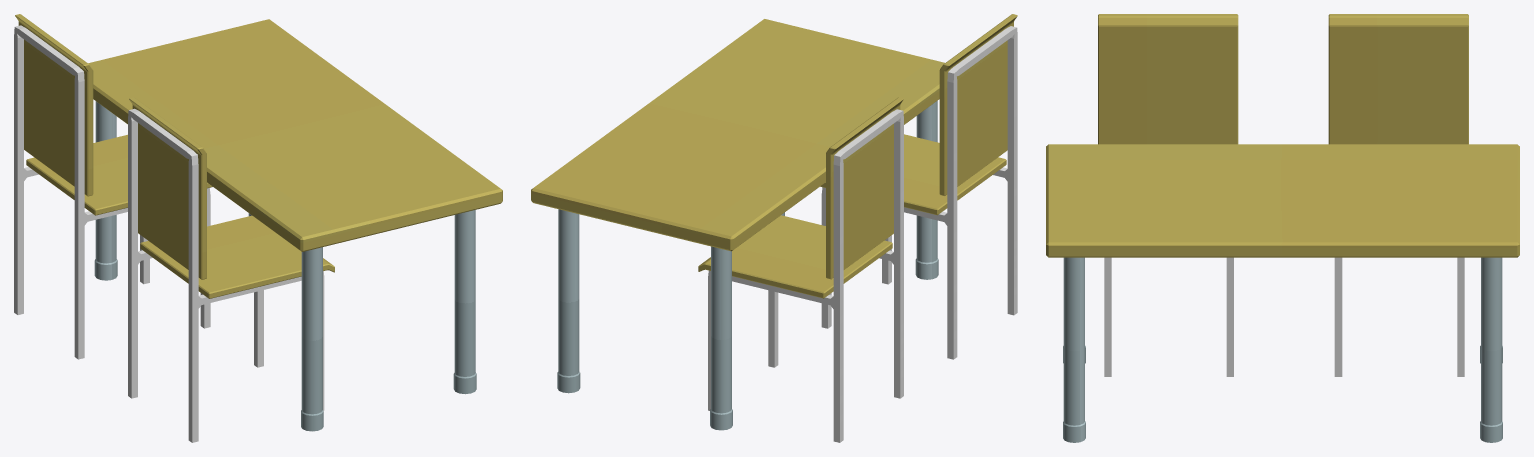
File: room_table_chairs.fbx
The picture shows the model from 3 angles, left to right: view 1: azimuth 30°, elevation 25°; view 2: azimuth 150°, elevation 25°; view 3: azimuth 270°, elevation 25°; orthographic projection.
Parts seen in each view (by area): view 1: Cube, Cylinder, Plane.001, Plane.002, Cube.002, Cube.004, Cube.003, Cube.001; view 2: Cube, Cylinder, Plane.002, Plane.001, Cube.004, Cube.002, Cube.001, Cube.003; view 3: Cube, Cube.002, Cube.004, Cylinder, Plane.002, Plane.001.
Boxes of the visible parts, bbox=[...] form: Cube: bbox=[88, 19, 502, 251]; Cylinder: bbox=[94, 101, 476, 431]; Plane.001: bbox=[128, 108, 324, 442]; Plane.002: bbox=[14, 25, 210, 359]; Cube.002: bbox=[15, 14, 93, 196]; Cube.004: bbox=[129, 97, 206, 279]; Cube.003: bbox=[140, 215, 334, 298]; Cube.001: bbox=[26, 134, 212, 215]; Cube: bbox=[531, 19, 944, 251]; Cylinder: bbox=[557, 101, 938, 430]; Plane.002: bbox=[708, 109, 903, 442]; Plane.001: bbox=[821, 26, 1017, 359]; Cube.004: bbox=[939, 14, 1017, 195]; Cube.002: bbox=[826, 97, 903, 279]; Cube.001: bbox=[698, 215, 892, 298]; Cube.003: bbox=[820, 134, 1006, 215]; Cube: bbox=[1046, 144, 1519, 257]; Cube.002: bbox=[1328, 14, 1468, 144]; Cube.004: bbox=[1098, 14, 1238, 144]; Cylinder: bbox=[1063, 257, 1502, 442]; Plane.002: bbox=[1334, 257, 1464, 376]; Plane.001: bbox=[1104, 257, 1233, 376].
Size of the model in its own units: 103 by 103 by 147.
Materials: 2 (1 with a texture image).
